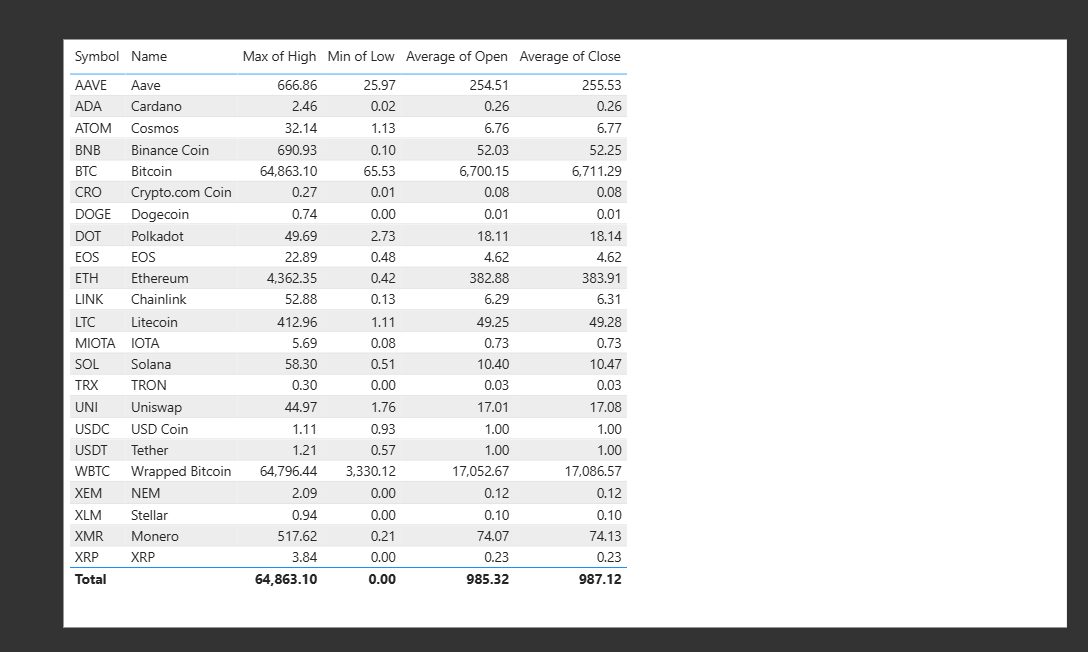

The dashboard page shown, as its layout file describes it:
{"tool":"powerbi","page":{"name":"Detail Overview","canvas":[1280,720],"ordinal":2},"visuals":[{"type":"tableEx","fields":{"Values":["Cryptocurrency.Symbol","Cryptocurrency.Name","Max(Cryptocurrency.High)","Min(Cryptocurrency.Low)","Avg(Cryptocurrency.Open)","Avg(Cryptocurrency.Close)"]},"box":[149,71.2,981.3,574.8],"z":0}]}

Visuals, with their boxes on the page's 1280x720 design canvas (x1, y1, x2, y2). These are canvas units, not pixel positions in the 1088x652 screenshot, which may show the page scaled, cropped or inside an application window:
tableEx - Cryptocurrency.Symbol x Cryptocurrency.Name: (x1=149, y1=71, x2=1130, y2=646)
